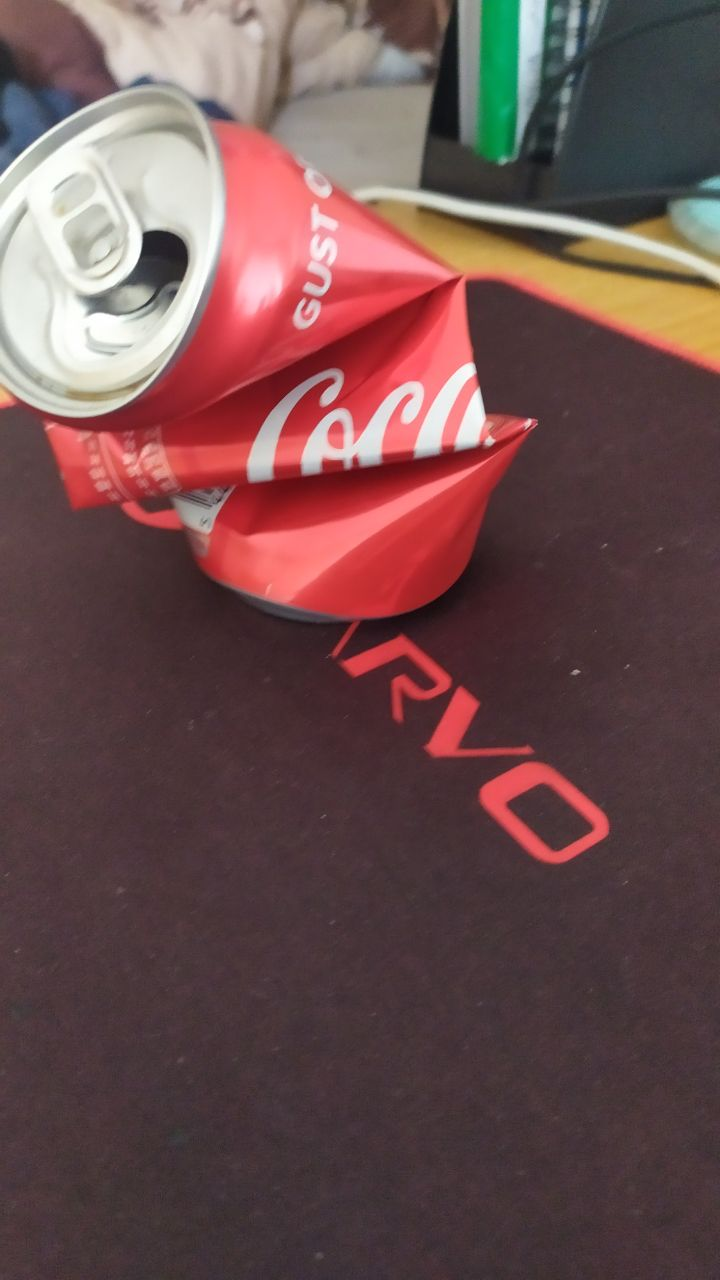Can: (1, 85, 547, 631)
